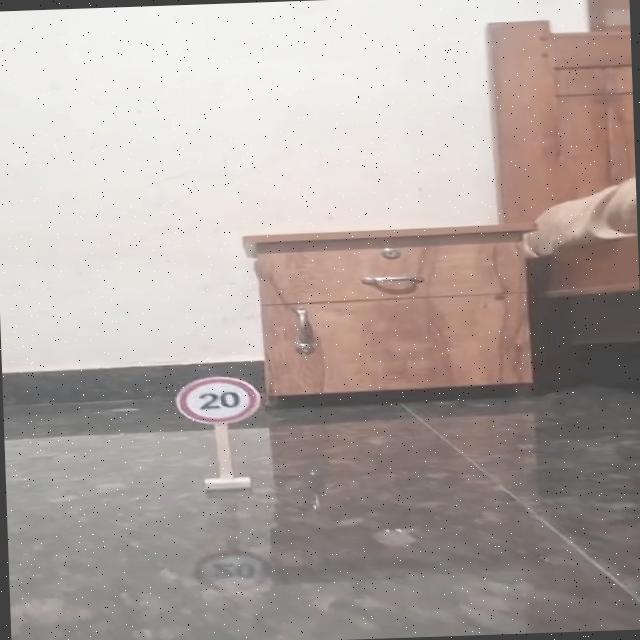Speed20: (168, 368, 270, 426)
